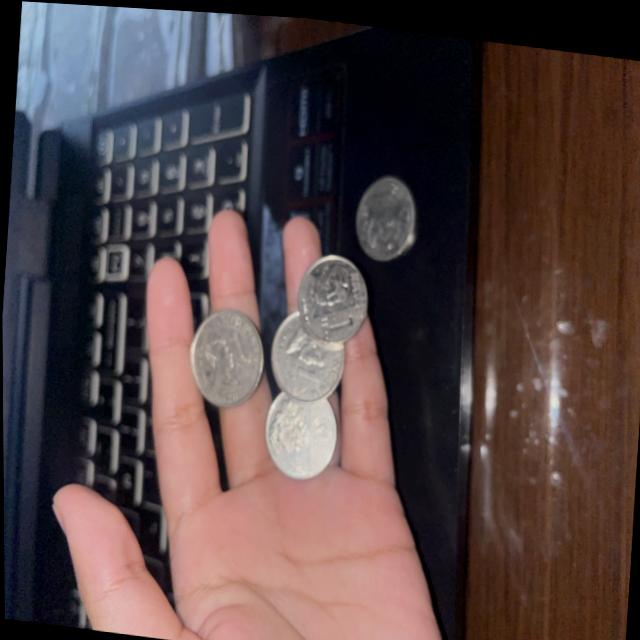1_New_Front: (303, 259, 361, 334)
